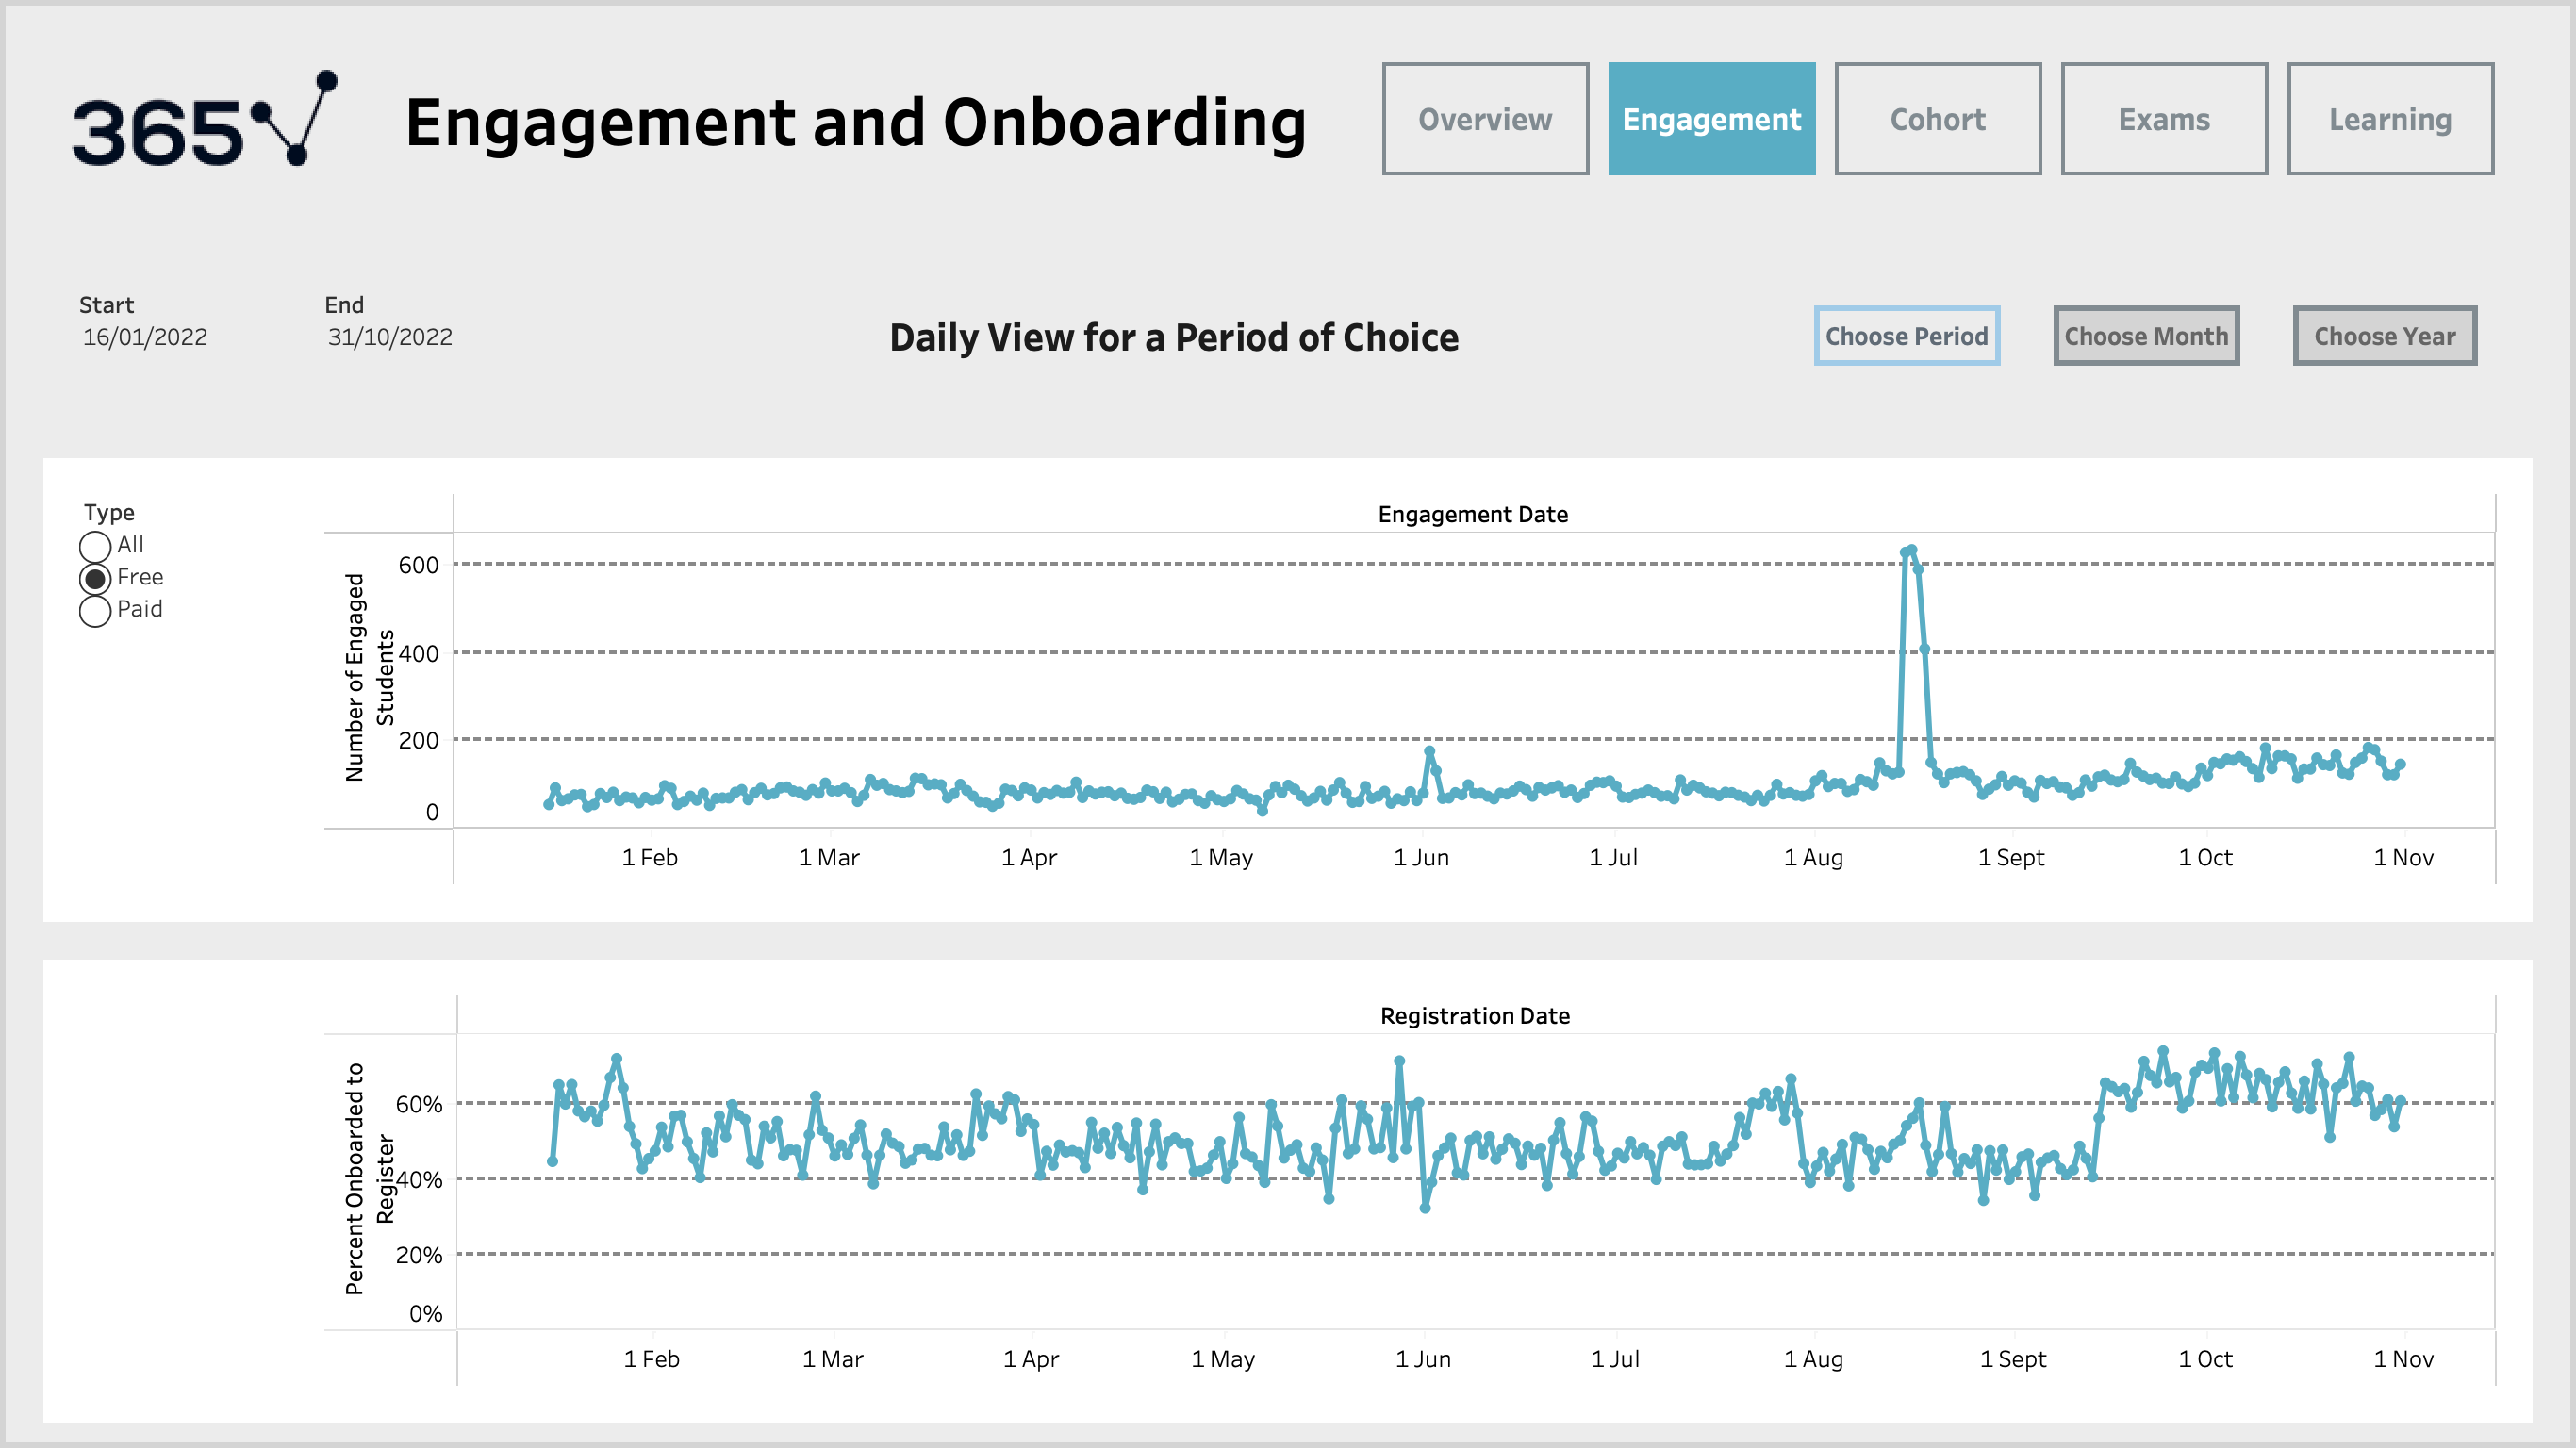

The page's visual inventory and layout, read from the dashboard file:
{"tool":"tableau","page":{"name":"Engagement Date","canvas":[1366,768],"ordinal":1},"visuals":[{"type":"image","param":"/Users/ayush/Downloads/images/logo.png","box":[38,28,142,70]},{"type":"text","box":[180,28,548,70]},{"type":"dashboard-object","box":[728,28,120,70]},{"type":"dashboard-object","box":[848,28,120,70]},{"type":"dashboard-object","box":[968,28,120,70]},{"type":"dashboard-object","box":[1088,28,120,70]},{"type":"dashboard-object","box":[1208,28,120,70]},{"type":"parameter","param":"[Parameters].[Minimum Engagement Date  (copy)_3486349064062980107]","box":[38,148,130,60]},{"type":"parameter","param":"[Parameters].[Maximum Engagement Date   (copy)_3486349064062951434]","box":[168,148,130,60]},{"type":"text","box":[298,148,650,60]},{"type":"dashboard-object","box":[948,148,127,60]},{"type":"dashboard-object","box":[1075,148,127,60]},{"type":"dashboard-object","box":[1202,148,126,60]},{"type":"parameter","param":"[Parameters].[Student Type  (copy)_3486349064063385612]","box":[23,243,130,246]},{"type":"worksheet","title":"Engagement date ","mark":"Automatic","rows":["student_id"],"cols":["Calculation_3486349064062668809","date_engaged"],"box":[153,243,1190,246]},{"type":"blank","box":[23,509,130,246]},{"type":"worksheet","title":"Onboarding date","mark":"Automatic","rows":["Calculation_3486349064077807632"],"cols":["Calculation_3486349064078913555","date_registered"],"box":[153,509,1190,246]}]}

Visuals, with their boxes in screenshot pixels (x1, y1, x2, y2), scaled from the page's 1366x768 canvas onto the 2576x1448 screenshot:
image: (left=72, top=53, right=339, bottom=185)
text: (left=339, top=53, right=1373, bottom=185)
dashboard-object: (left=1373, top=53, right=1599, bottom=185)
dashboard-object: (left=1599, top=53, right=1825, bottom=185)
dashboard-object: (left=1825, top=53, right=2052, bottom=185)
dashboard-object: (left=2052, top=53, right=2278, bottom=185)
dashboard-object: (left=2278, top=53, right=2504, bottom=185)
parameter: (left=72, top=279, right=317, bottom=392)
parameter: (left=317, top=279, right=562, bottom=392)
text: (left=562, top=279, right=1788, bottom=392)
dashboard-object: (left=1788, top=279, right=2027, bottom=392)
dashboard-object: (left=2027, top=279, right=2267, bottom=392)
dashboard-object: (left=2267, top=279, right=2504, bottom=392)
parameter: (left=43, top=458, right=289, bottom=922)
"Engagement date " worksheet: (left=289, top=458, right=2533, bottom=922)
blank: (left=43, top=960, right=289, bottom=1423)
"Onboarding date" worksheet: (left=289, top=960, right=2533, bottom=1423)
